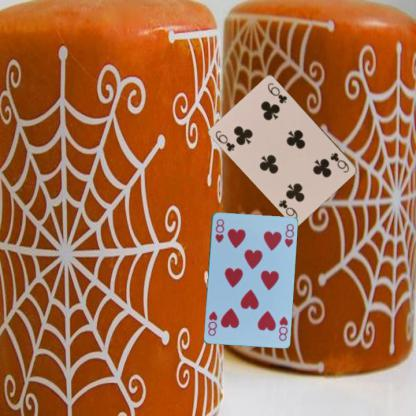6c: (213, 128, 236, 152), (328, 150, 350, 174)
8h: (276, 313, 289, 342), (213, 216, 225, 244)
